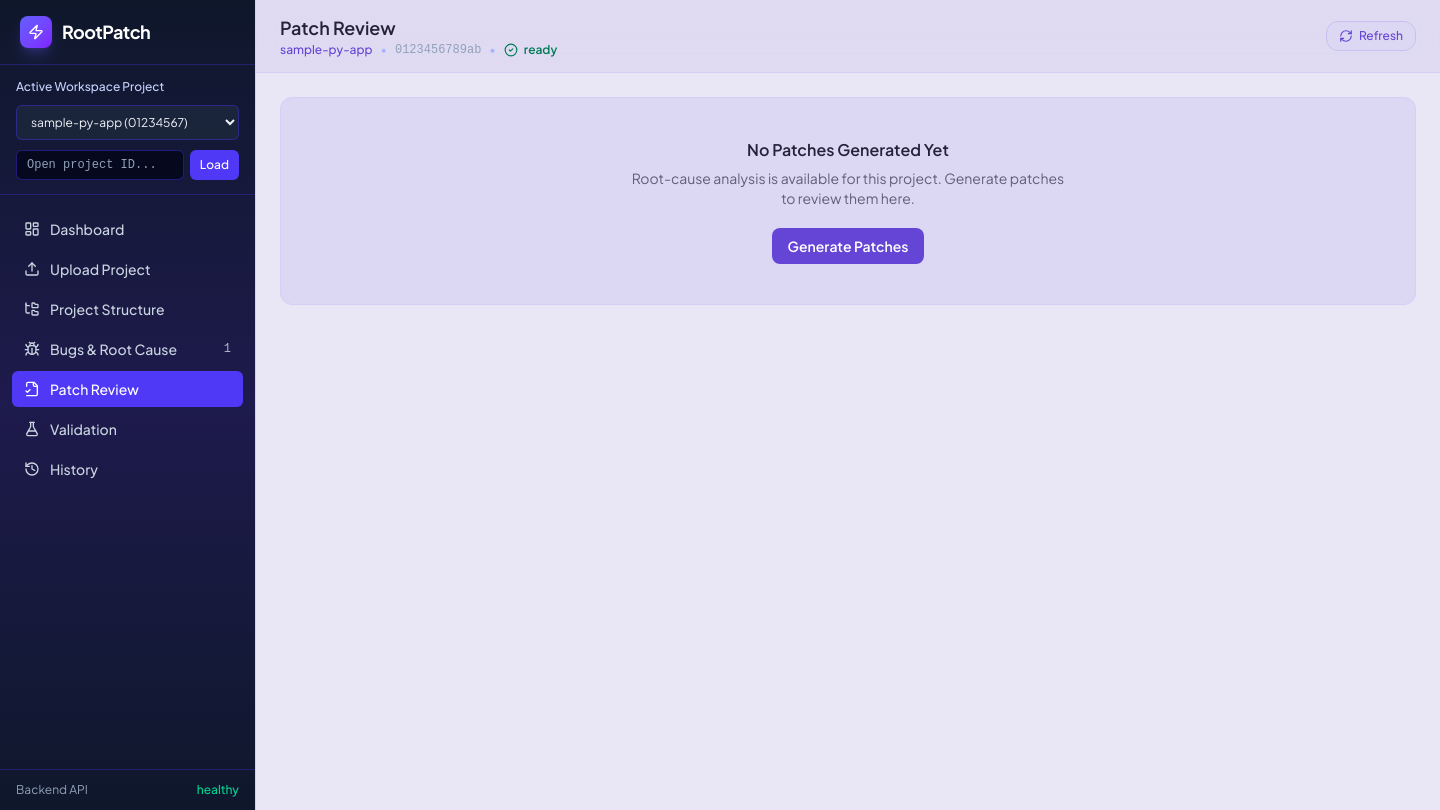
Test: API integration: status-gated optional resources › patch page offers Generate Patches when analysis exists but patches do not
This screenshot has width=1440, height=810.
Click the button "Generate Patches": click(848, 246) [772,228,924,264]
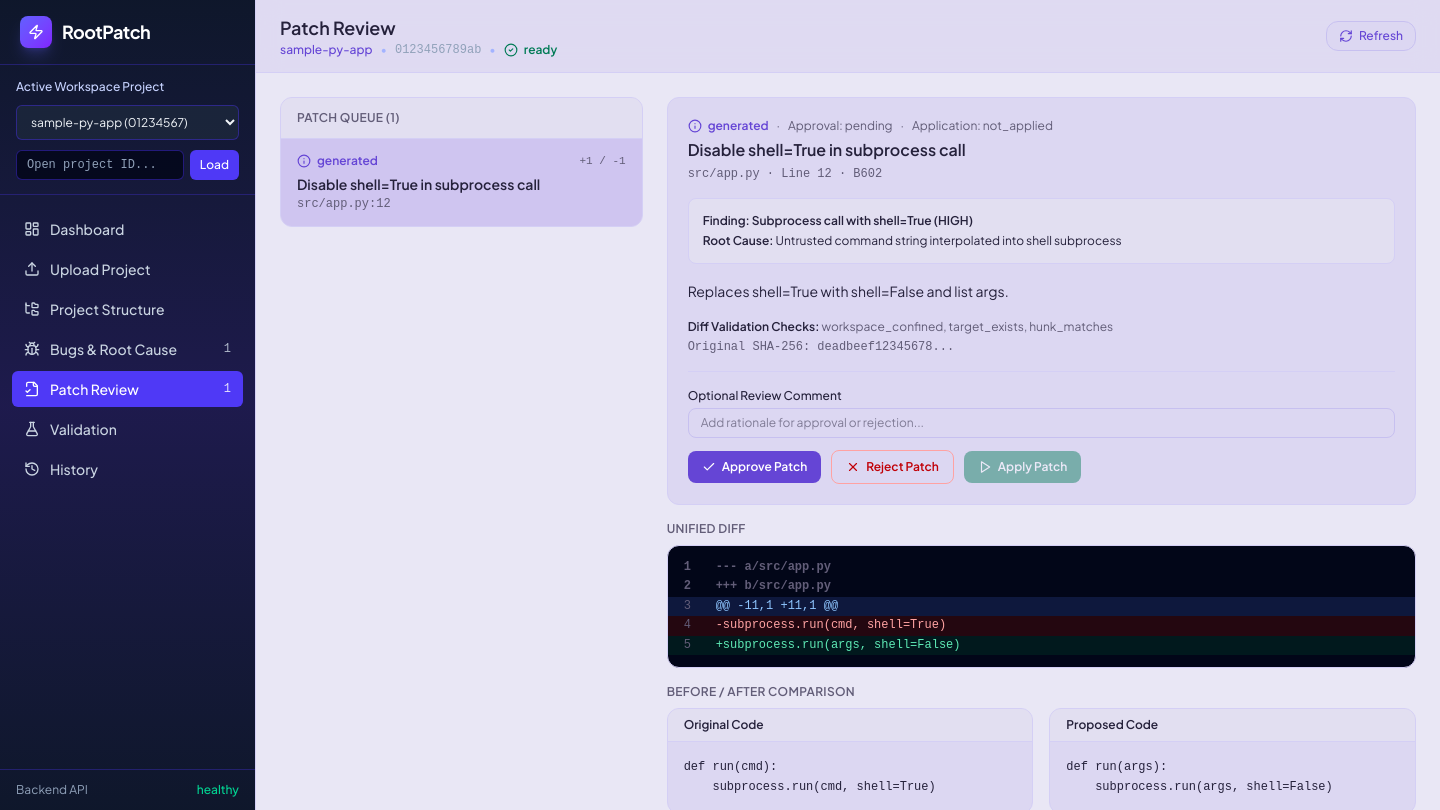
Now the heading "Before / After Comparison" is shown, box [667,684,855,699]
